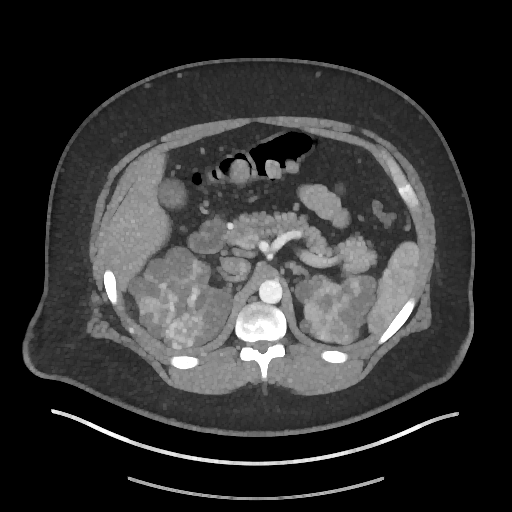Lesion: (165, 316, 198, 352)
